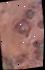plaque psoriasis: (30, 33, 44, 67), (12, 16, 32, 39), (0, 51, 19, 70), (23, 7, 37, 20), (34, 19, 45, 34), (31, 0, 42, 11)
